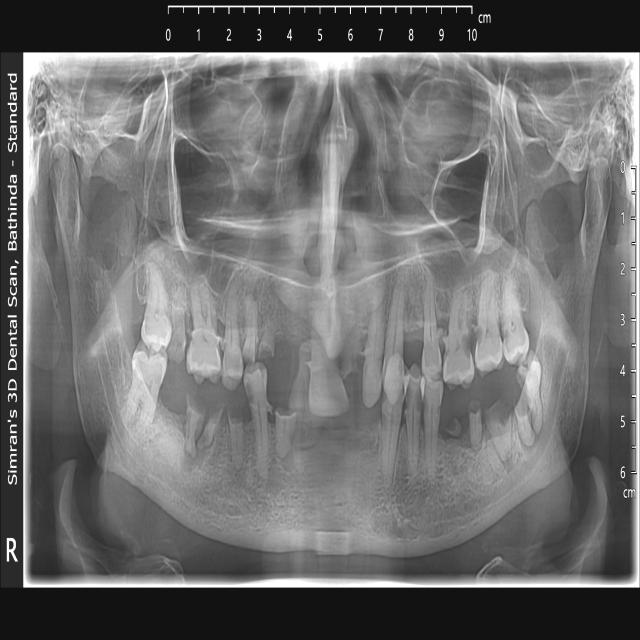Caries: (508, 367, 532, 415), (402, 363, 424, 408), (245, 365, 265, 403), (461, 326, 483, 359), (170, 322, 188, 359)
Missing teeth: (278, 337, 362, 378), (296, 426, 376, 469), (155, 387, 185, 442), (406, 297, 422, 360)
Periapical lesion: (251, 437, 282, 492), (517, 399, 546, 454), (499, 442, 517, 477)
Root Piece: (241, 294, 275, 366), (185, 406, 225, 459), (486, 401, 511, 460), (273, 411, 300, 460), (228, 415, 243, 473), (468, 401, 482, 452), (447, 413, 462, 436)
